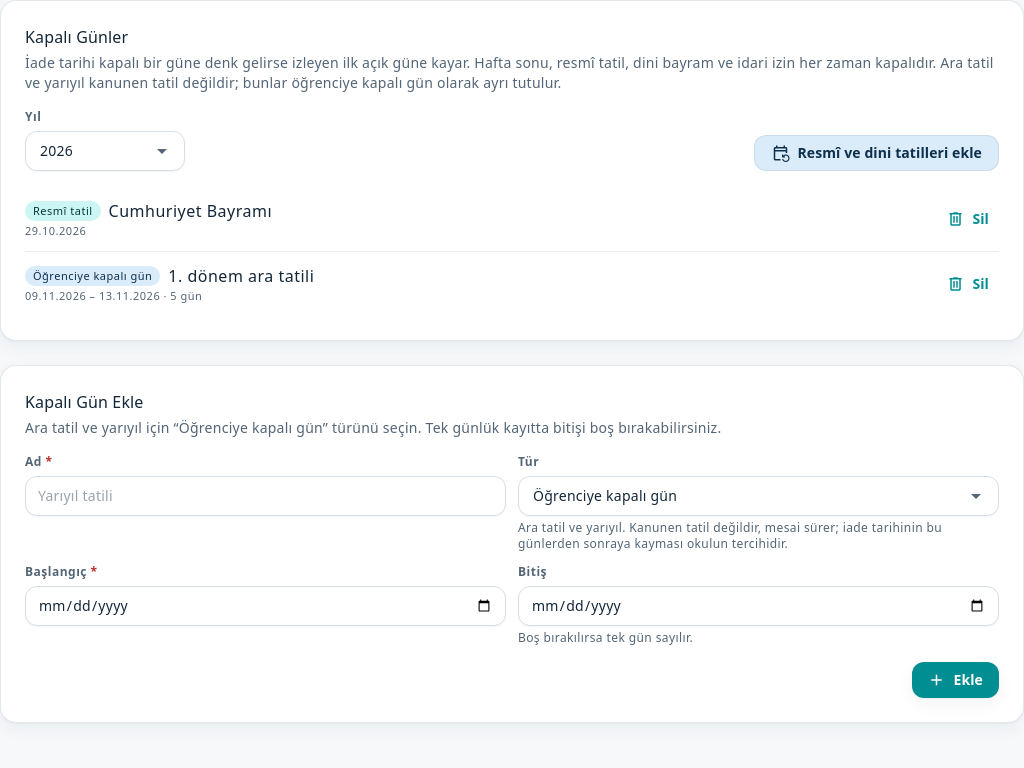
it: KapaliGunlerPaneli — silme › silme onay diyaloğundan geçer; başlık soru, gövde sonuçtur
This screenshot has width=1024, height=768.
Check: the text "1. dönem ara tatili" is shown, box [168,265,314,287]
Click the button with aria-label "1. dönem ara tatili kaydını sil".
click(968, 284)  # box [936,266,999,302]
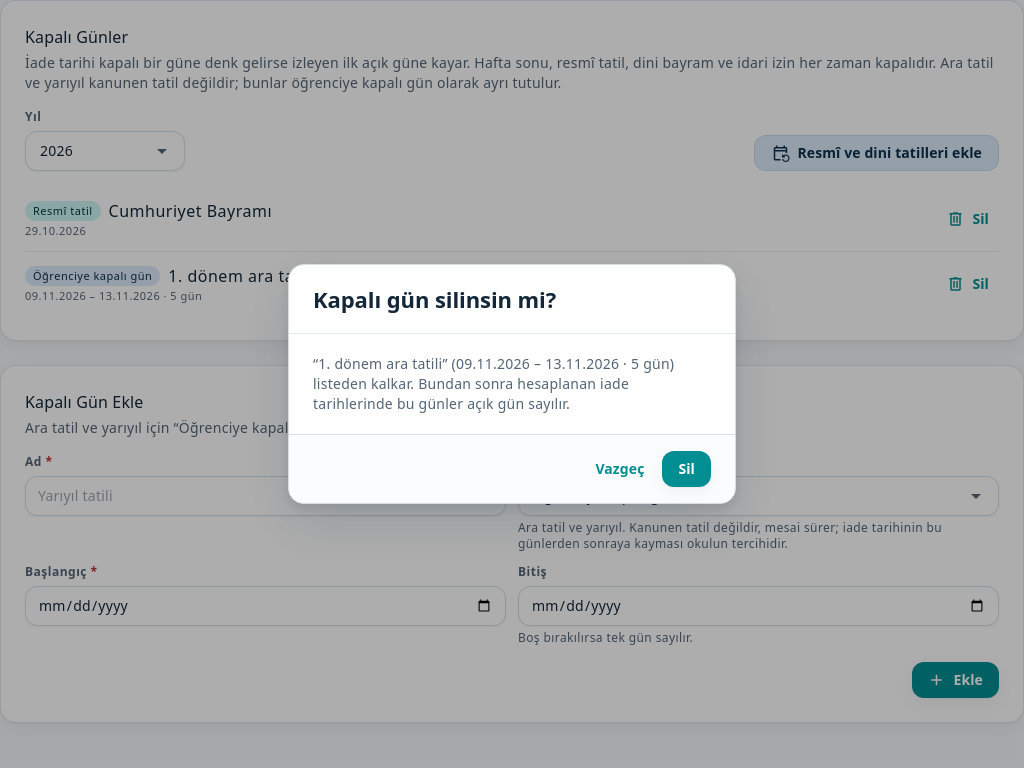
Check: the dialog "Kapalı gün silinsin mi?" shows "09.11.2026 – 13.11.2026", box [313,354,674,413]
Check: the dialog "Kapalı gün silinsin mi?" shows "açık gün sayılır", box [313,354,674,413]
Click the button "Sil".
click(687, 469)  # box [662,451,711,487]
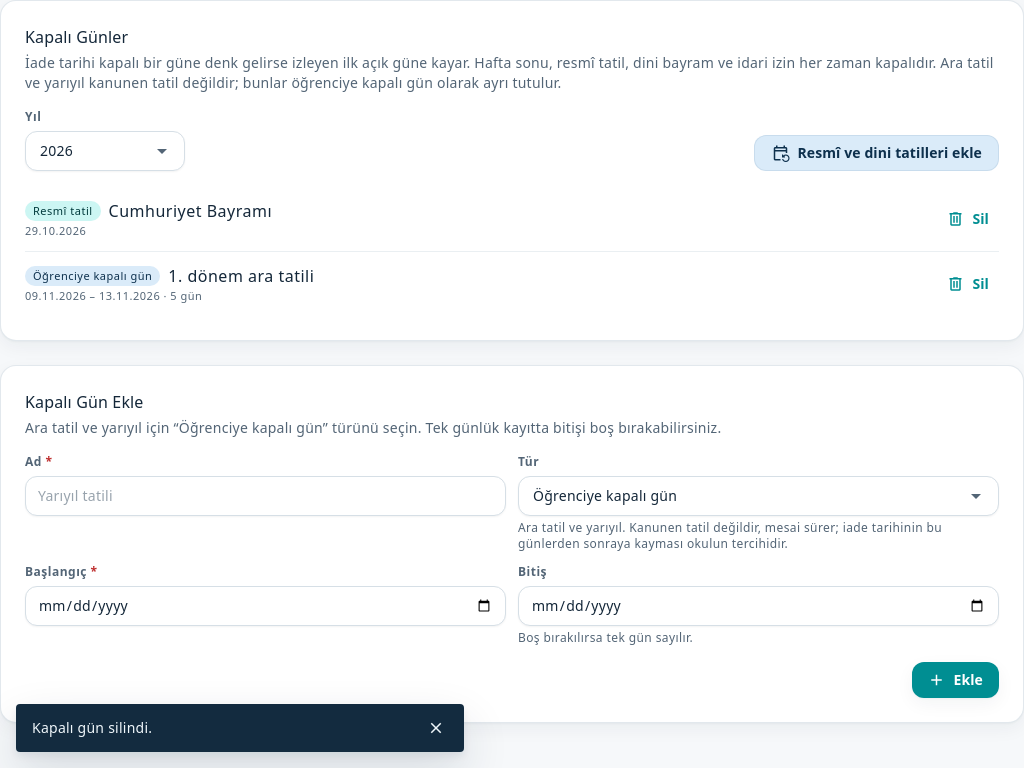
Check: the text "Kapalı gün silindi." is shown, box [32,718,152,737]
